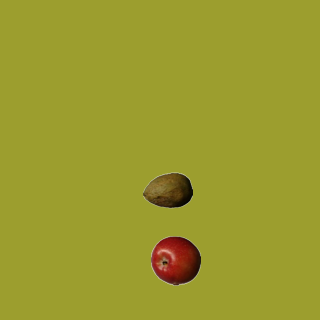Apple Braeburn: (150, 235, 200, 285)
Papaya: (142, 165, 192, 215)
